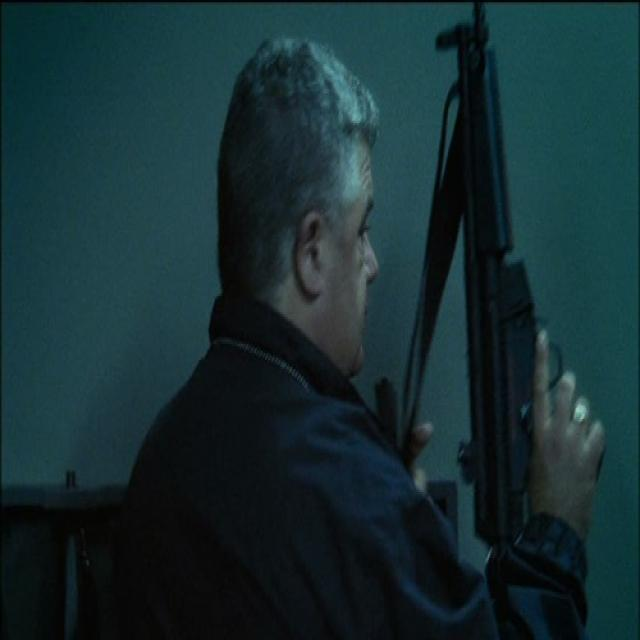rifle: (438, 1, 552, 567)
